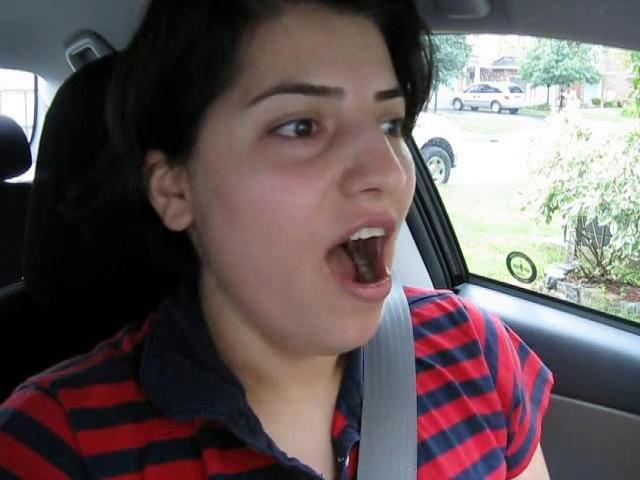eye_open: (262, 106, 330, 150), (376, 110, 408, 140)
face: (213, 60, 417, 367)
mouth_open: (314, 210, 399, 305)
